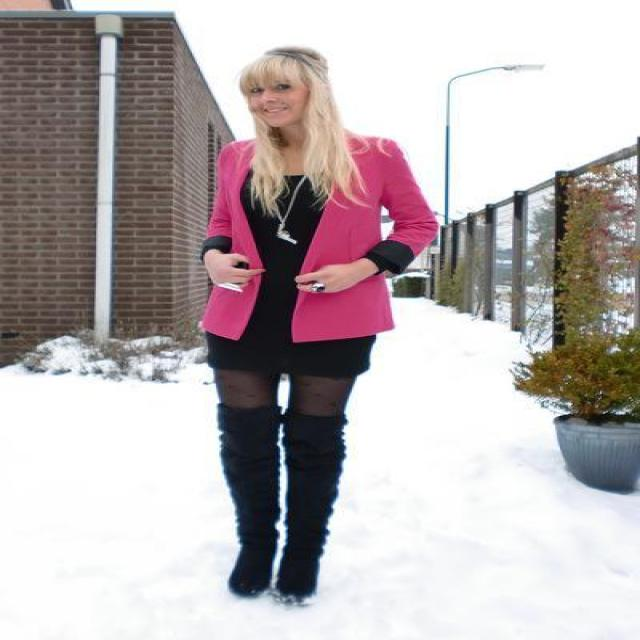dress: (200, 170, 413, 388)
jacket: (198, 136, 437, 342)
shoe: (218, 412, 344, 597)
